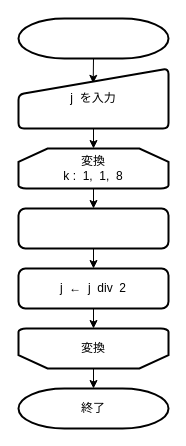
Image size: 186x446. Some labels were removed from this diagram. Each missing label, with the centre of its shape:
NISHIN(k) ← j mod 2: the point at 93,228
開始: the point at 93,38
